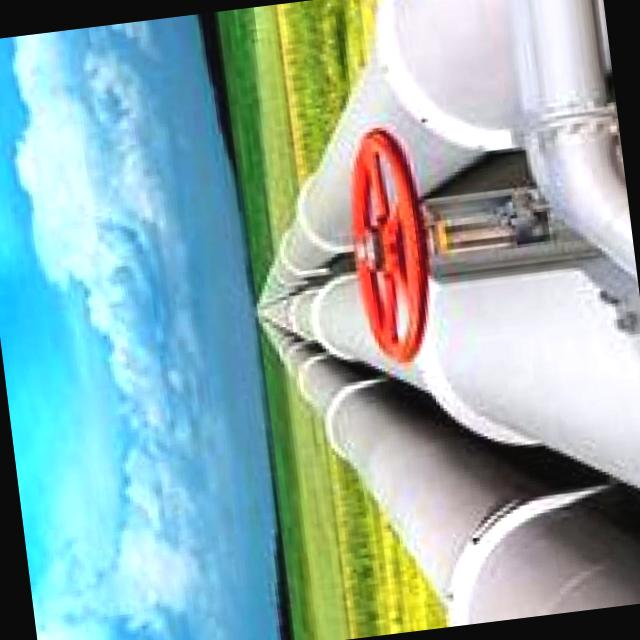gas: (260, 0, 637, 304), (264, 323, 640, 626), (283, 267, 640, 487)
